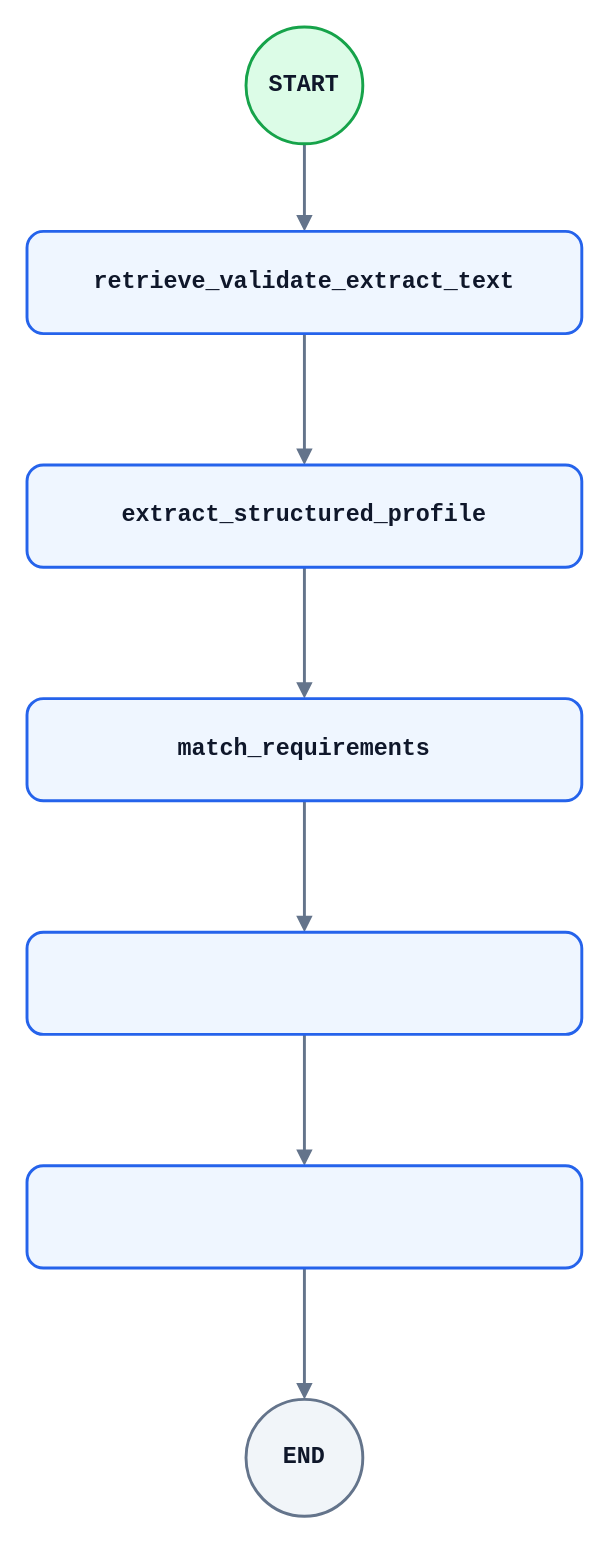
This 607x1542 diagram has some shape labels left out. Here are the shapes that lost their labels. From the top down, the centre of each, then its label:
At (304,982): "validate_evidence".
At (304,1216): "persist_result".
